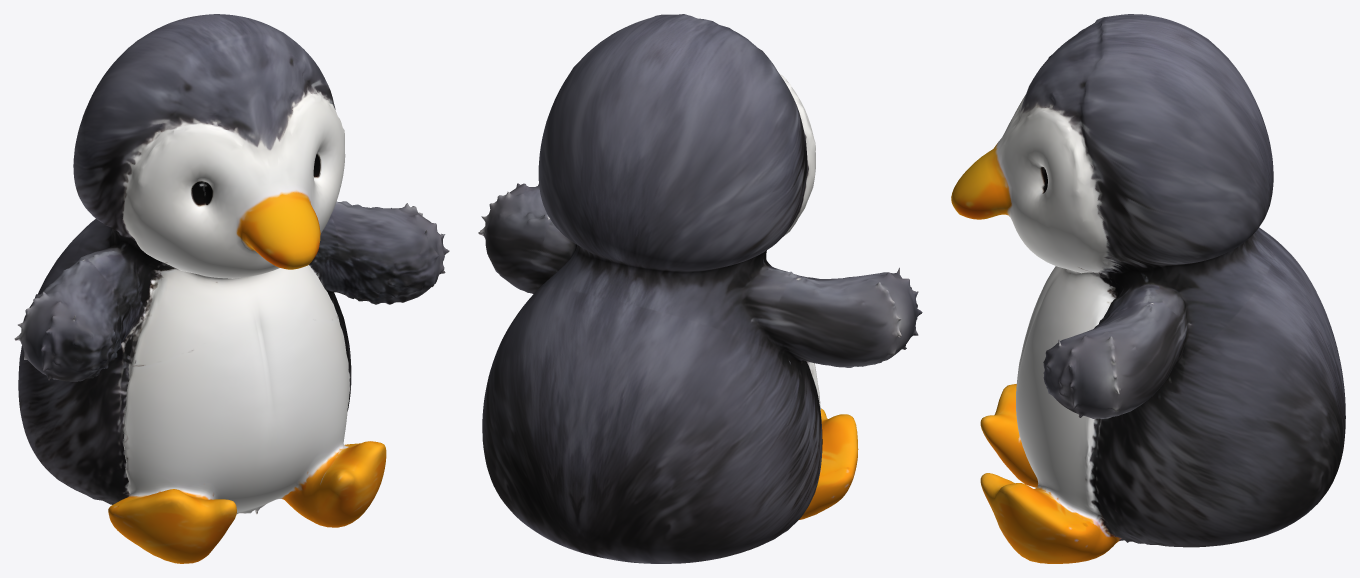
3 views of the same model, side by side, from view 1: azimuth 30°, elevation 25°; view 2: azimuth 150°, elevation 25°; view 3: azimuth 270°, elevation 25° (orthographic). The views are drawn at different scales.
Parts seen in each view (by area): view 1: model; view 2: model; view 3: model.
Boxes of the visible parts, bbox=[...] form: model: bbox=[14, 14, 449, 563]; model: bbox=[478, 14, 922, 563]; model: bbox=[951, 14, 1345, 563].
Size of the model in its own units: 1.7 by 1.9 by 1.37.
1 material, 1 textured.
